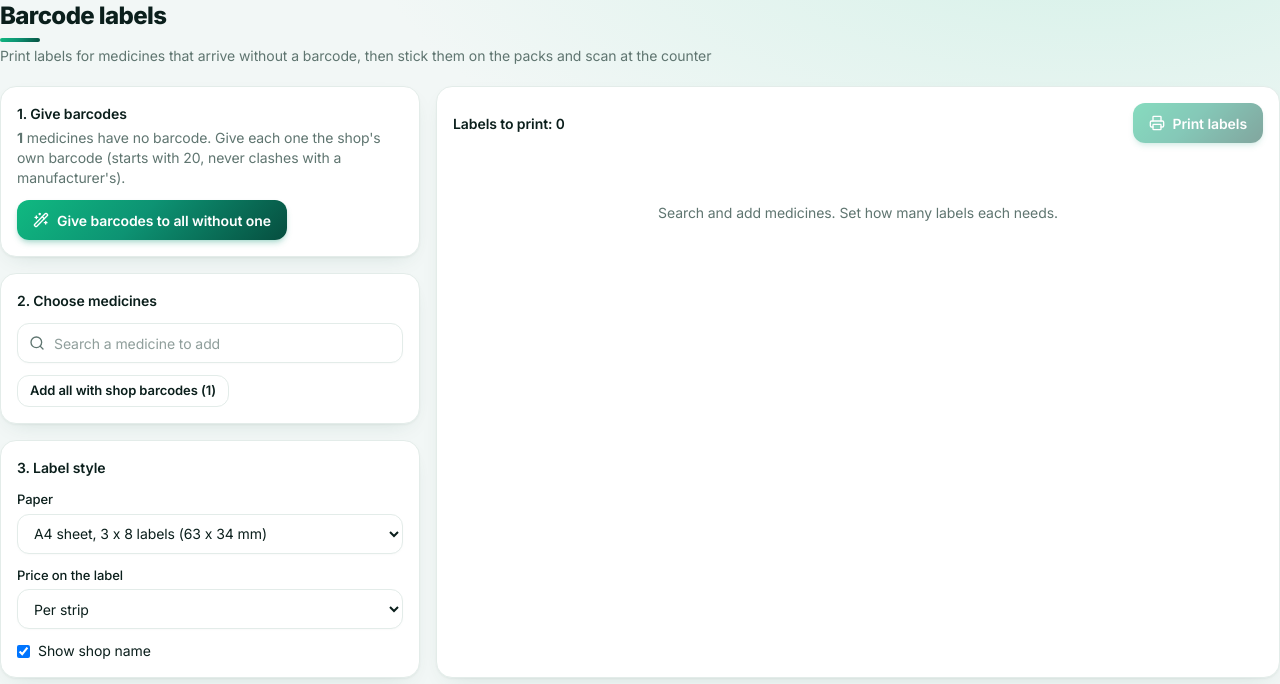
Barcode labels › counts medicines without a barcode, assigns them, and prints the chosen number of labels
Expected: the text "have no barcode" is shown, [17,129,381,186]
Expected: the text "1" is shown, [17,129,23,146]
Step 1. Click the button "Give barcodes to all without one" → (152, 220), box [17,200,287,240]
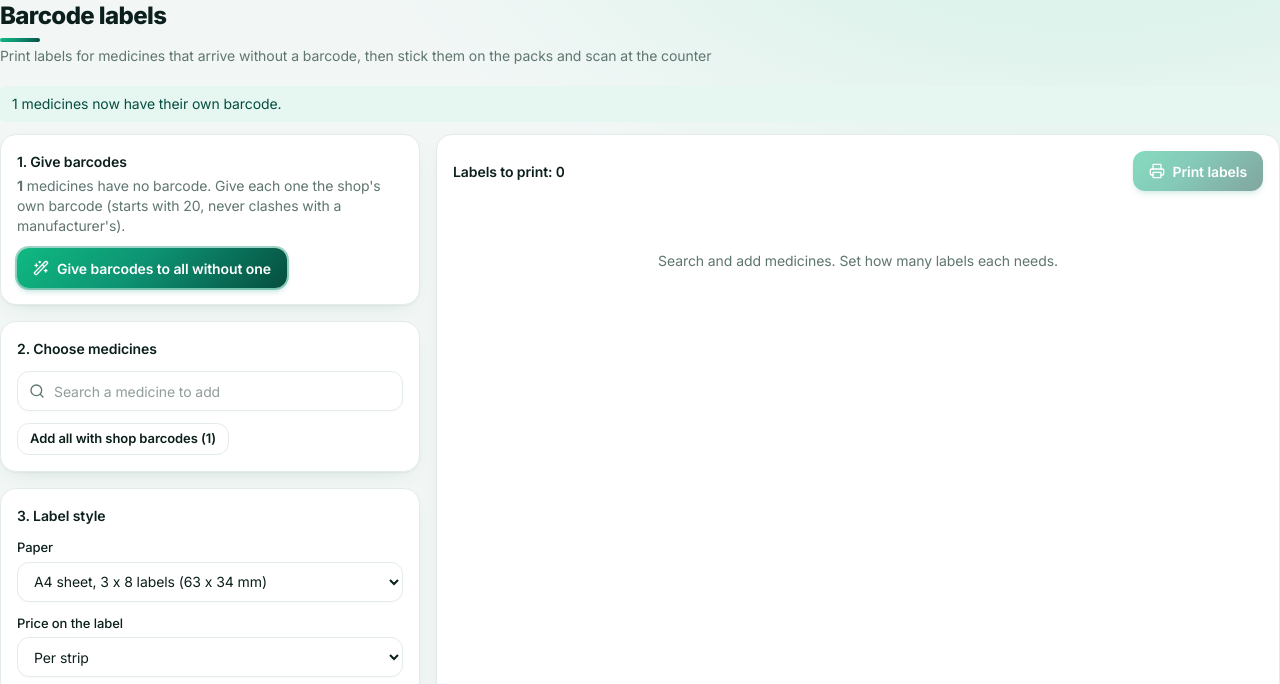
Step 2. Type "pana" into the field named "Search medicine for label" → (210, 391), box [17,371,403,411]
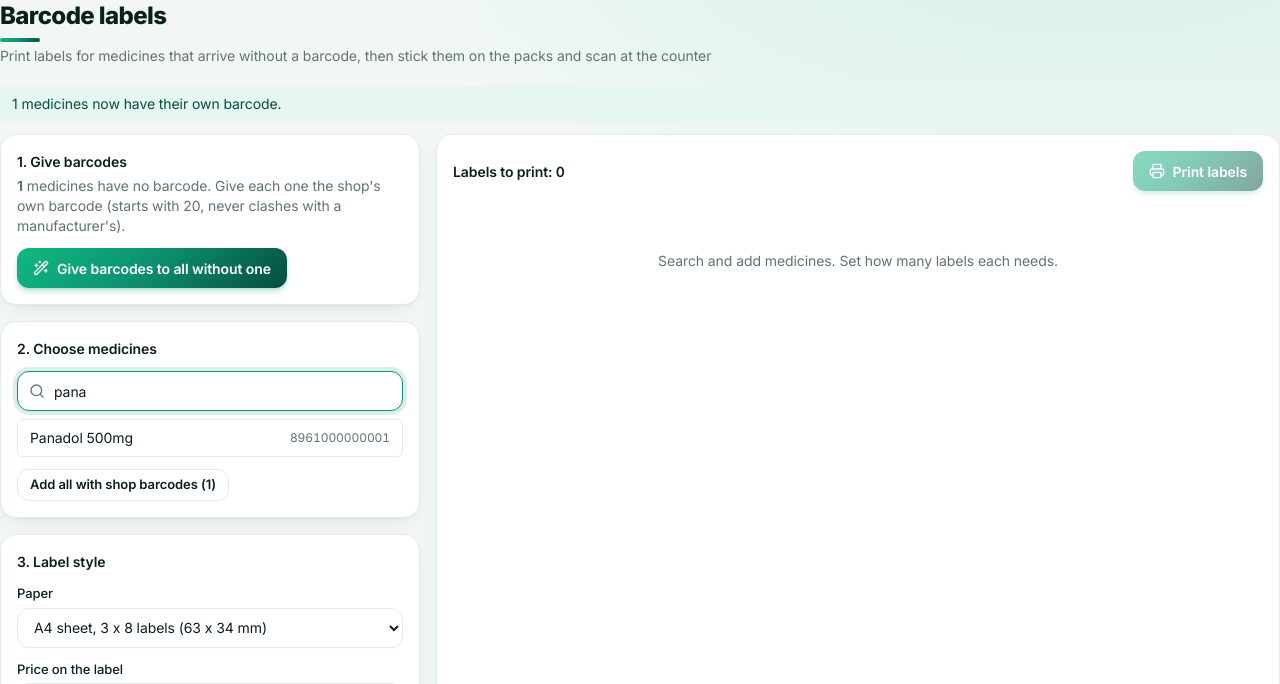
Step 3. Click the button "Panadol 500mg 8961000000001" → (81, 438), box [18,420,402,456]
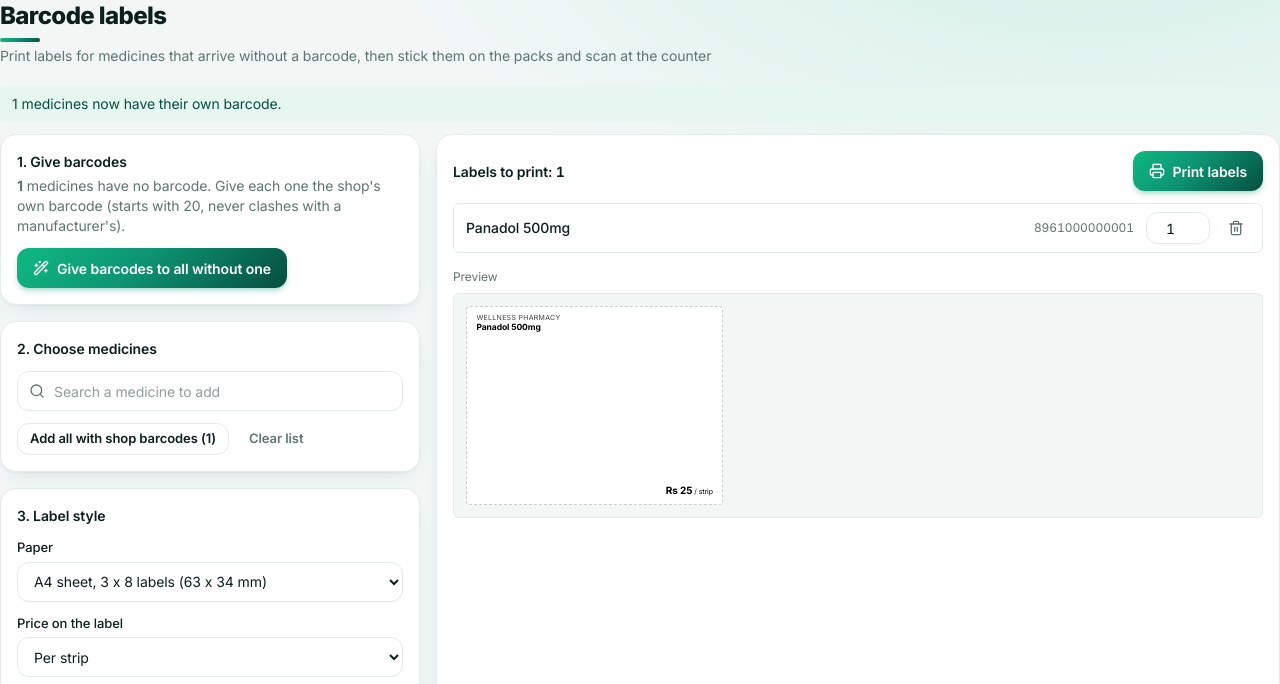
Step 4. Replace the text in the number field named "Labels for Panadol 500mg" with "3" → (1178, 228), box [1146,212,1210,244]
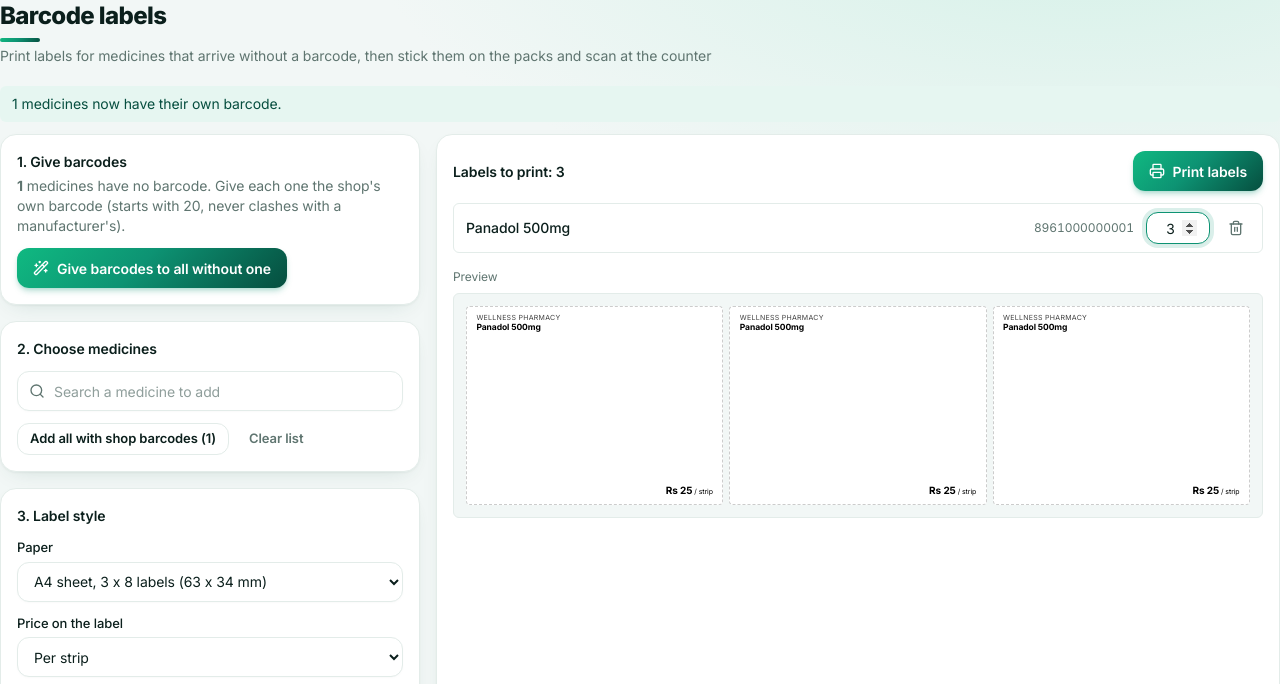
Expected: the 1st text "Rs 25" is shown, [666,484,692,496]
Expected: the text "Labels to print: 3" is shown, [453,160,565,182]
